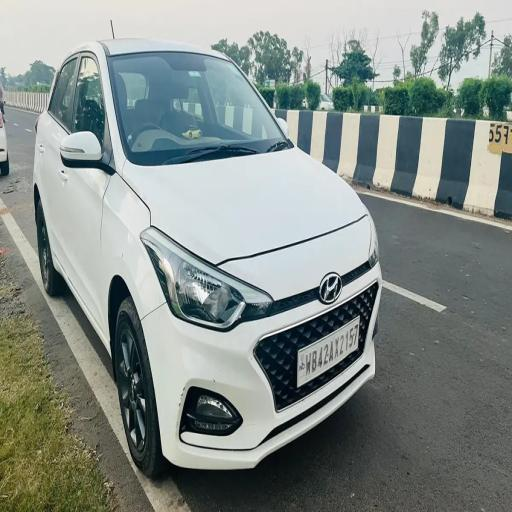License: (294, 326, 361, 391)
